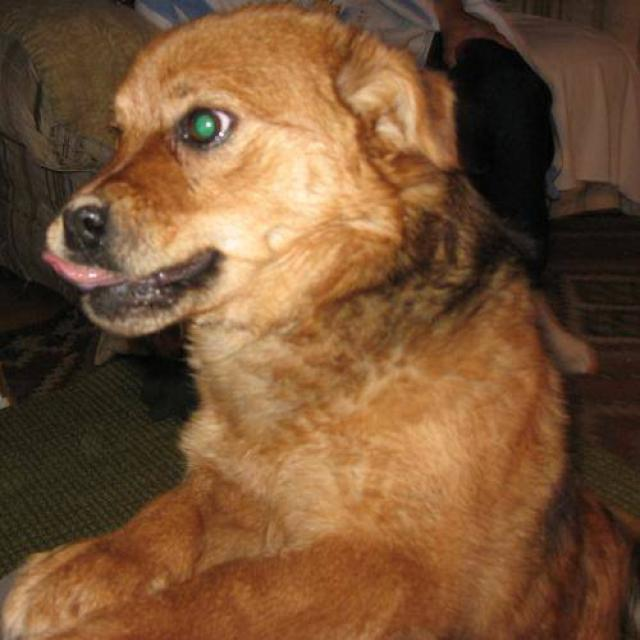Dog: (28, 0, 470, 381)
